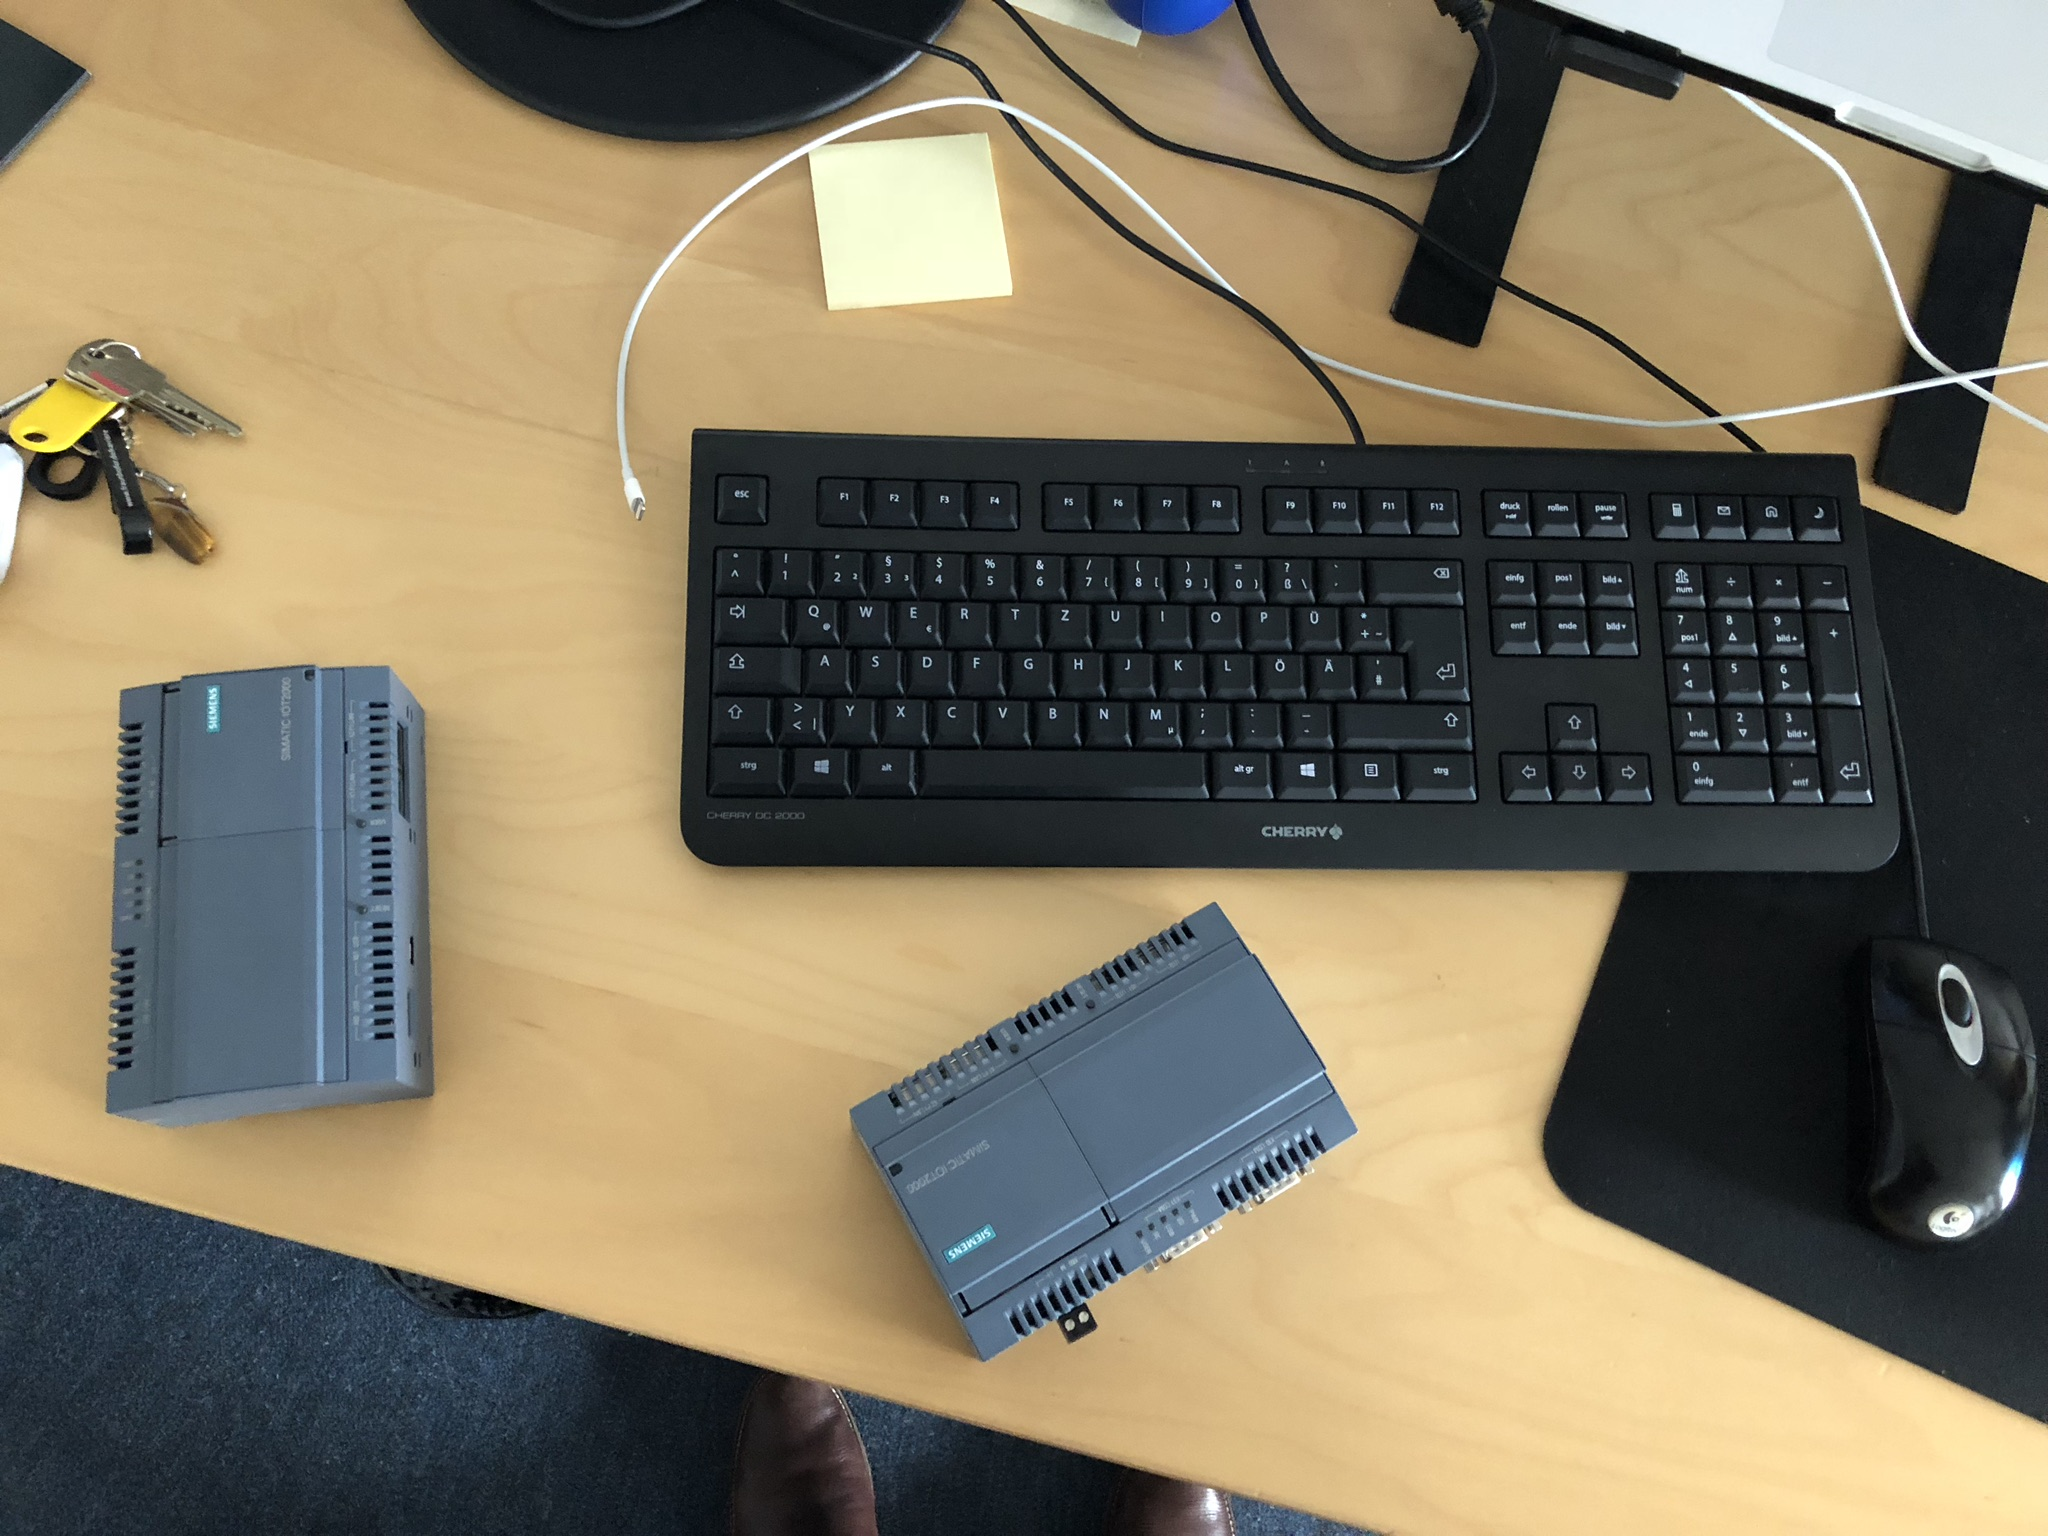device: (848, 900, 1359, 1363), (106, 665, 435, 1129)
